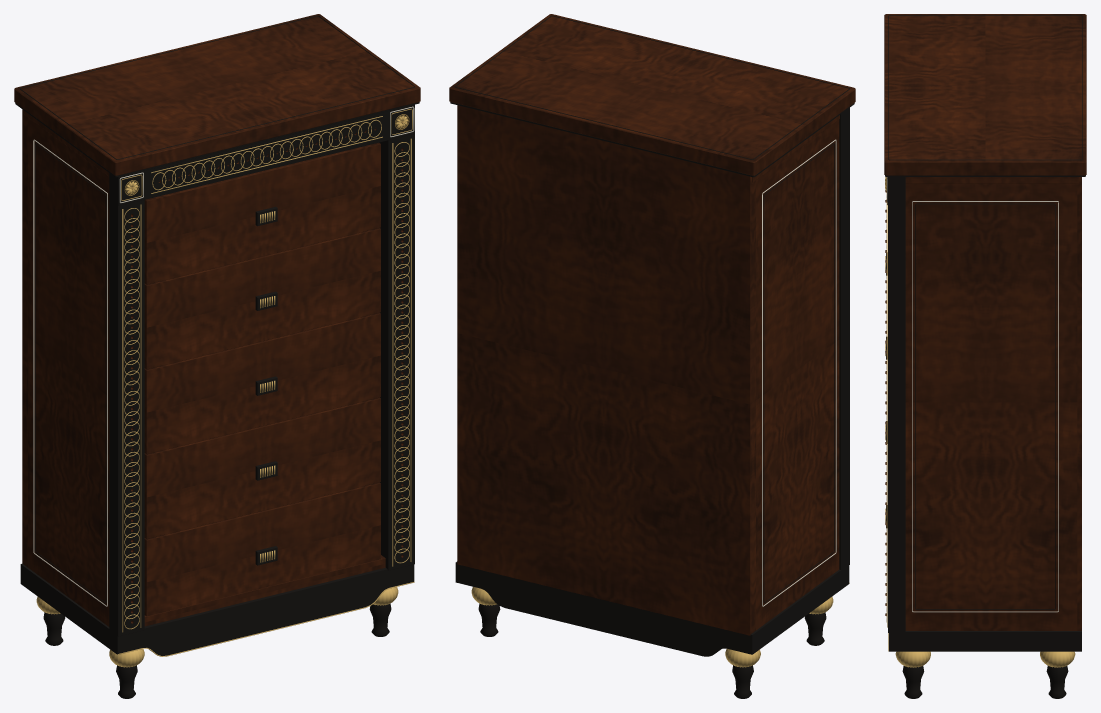
The picture shows the model from 3 angles, left to right: view 1: azimuth 30°, elevation 25°; view 2: azimuth 150°, elevation 25°; view 3: azimuth 270°, elevation 25°; orthographic projection.
Parts seen in each view (by area): view 1: Nantes five-drawer chest | bedroom-31 web batch; view 2: Nantes five-drawer chest | bedroom-31 web batch; view 3: Nantes five-drawer chest | bedroom-31 web batch.
Part boxes in pixels (left/top/right/bottom): Nantes five-drawer chest | bedroom-31 web batch: left=14, top=14, right=420, bottom=698; Nantes five-drawer chest | bedroom-31 web batch: left=449, top=14, right=855, bottom=698; Nantes five-drawer chest | bedroom-31 web batch: left=884, top=14, right=1086, bottom=698.
Size of the model in its own units: 0.78 by 1.34 by 0.45.
Materials: 7 (2 with a texture image).
